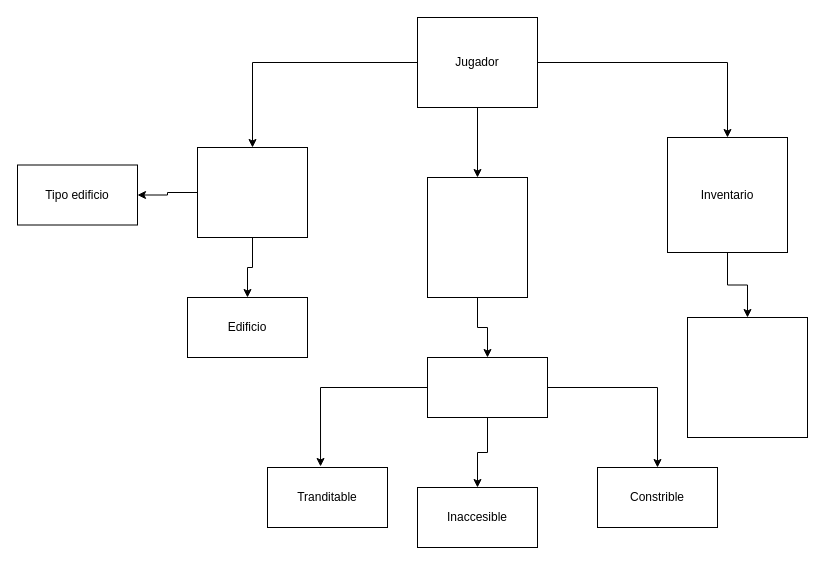
Image size: 825x565. Some labels were removed from this diagram. Each missing label, with the box of its shape:
Casillero: (426, 356, 548, 418)
Ciudad: (196, 146, 308, 238)
Mapa: (426, 176, 528, 298)
Materiales: (686, 316, 808, 438)
